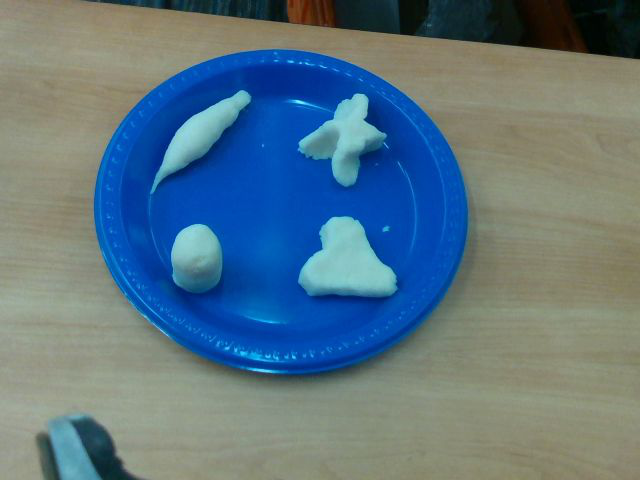mashed_potato: (151, 90, 251, 192), (297, 93, 386, 187), (299, 215, 396, 298), (170, 224, 223, 291)
